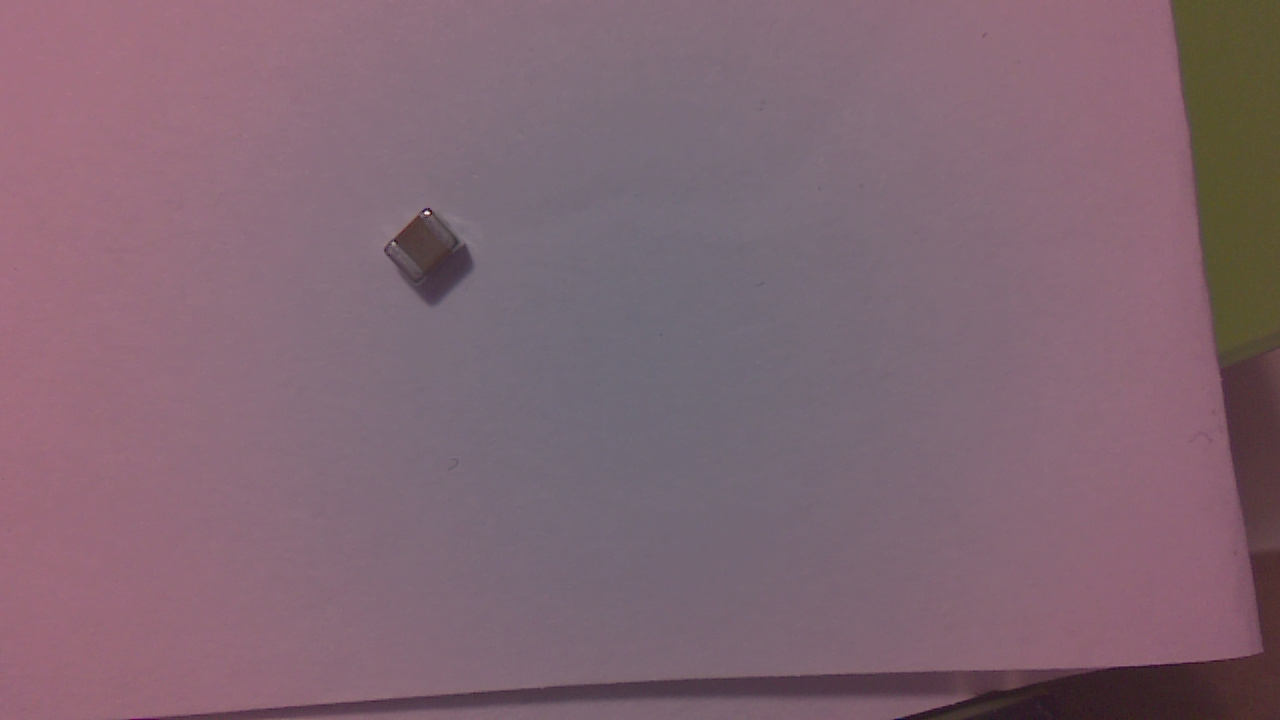Condensator: (389, 210, 467, 288)
